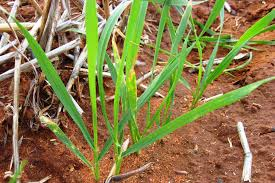Diseased_Leaves: (127, 92, 146, 149), (125, 54, 138, 85)
